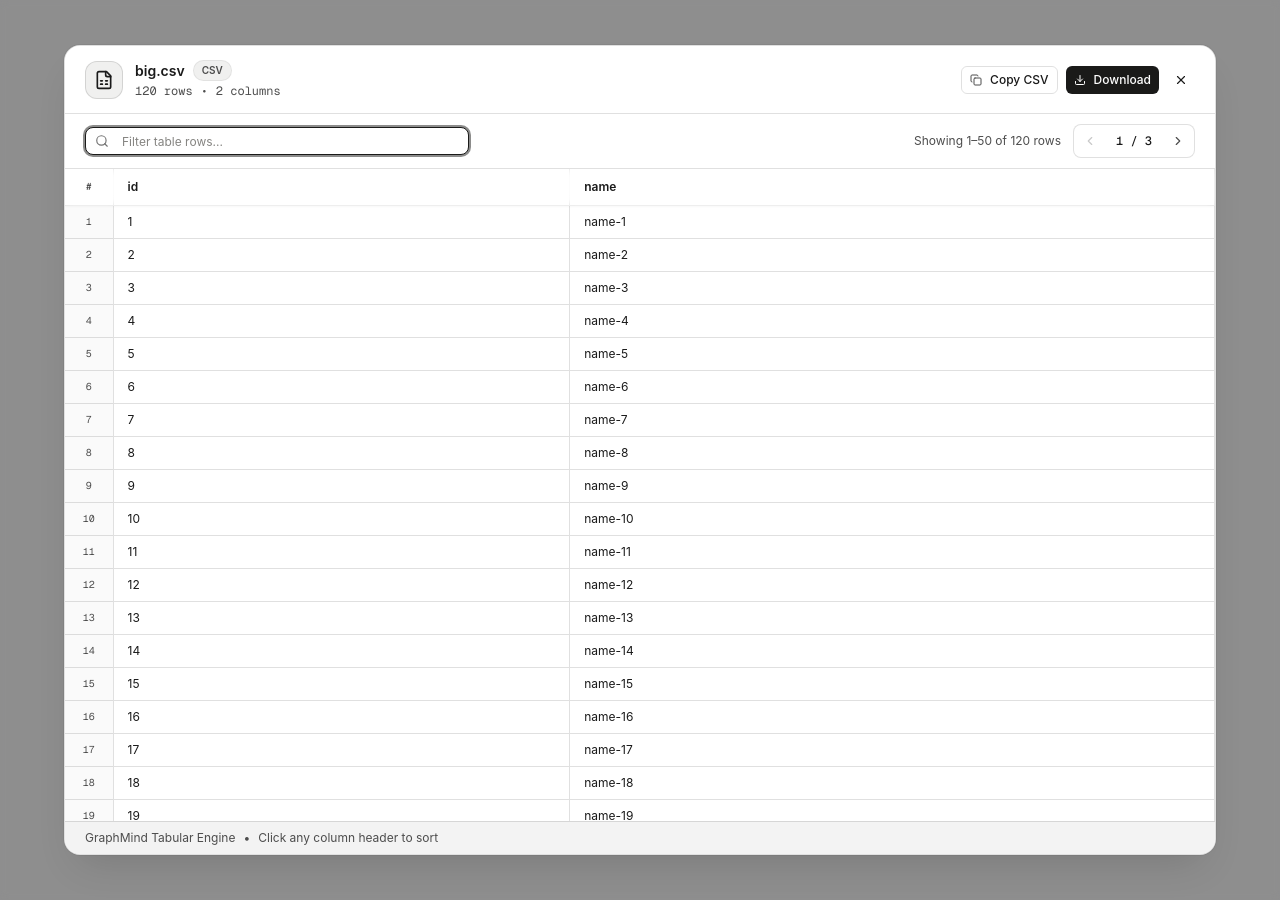
Scenario: LSI-034 TableViewerModal › paginates large tables at 50 rows per page with working navigation
Expected: the text "name-1" is shown, [570,206,1214,238]
Expected: the text "name-51" is not shown
What coordinates should you click on to do the following:
click the button named "Next page"
I would click on:
 (1178, 141)
Its box is [1164,127,1192,155].
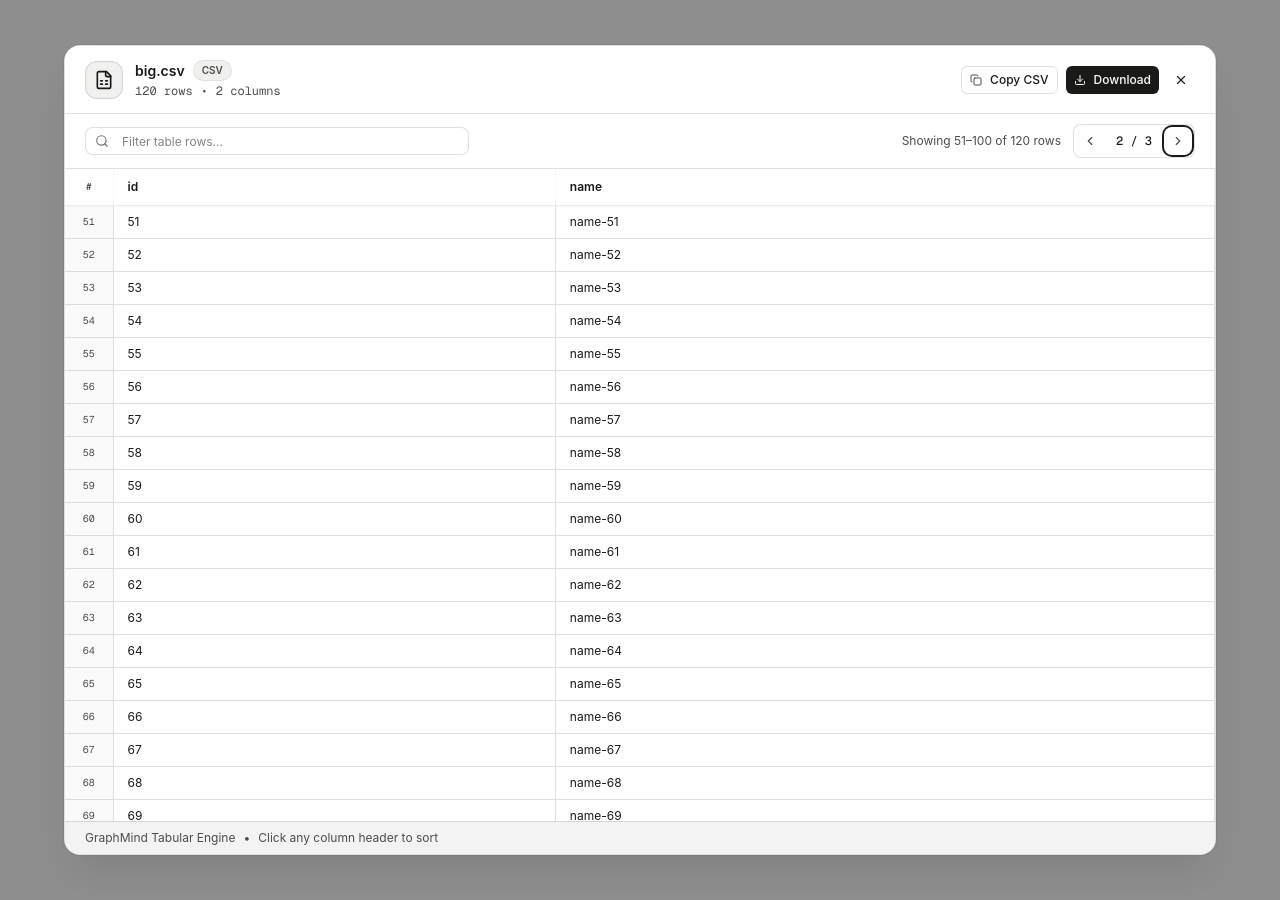
Expected: the text "name-1" is gone
Expected: the text "name-51" is shown, [555,206,1214,238]
Expected: the text "2 / 3" is shown, [1116,133,1152,149]
